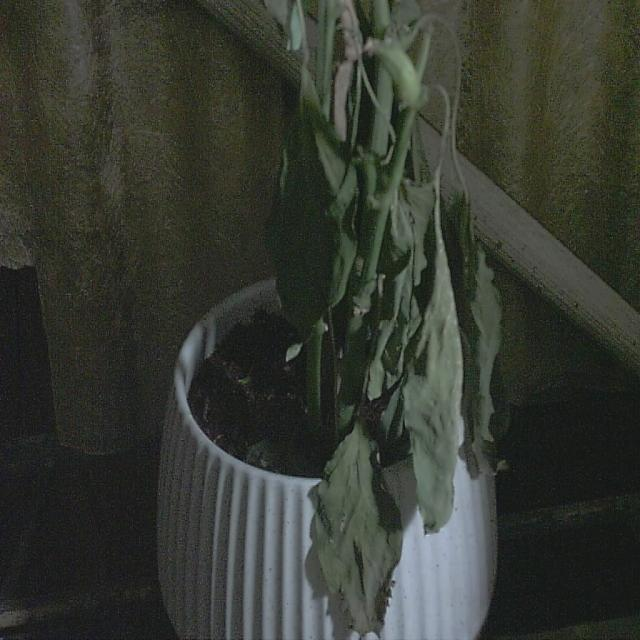Leaf: (265, 68, 359, 362), (312, 428, 403, 636), (400, 245, 463, 536), (457, 200, 513, 478)
